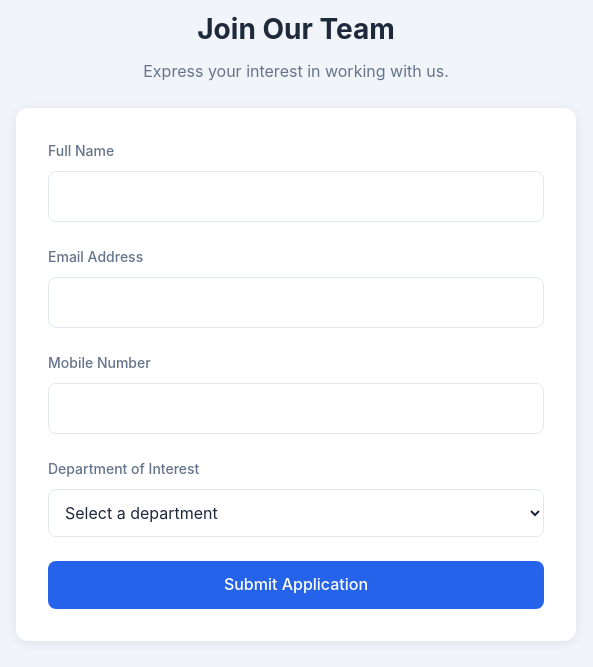
Scenario: InterestForm › associates inline errors with every empty field and never writes
Click the button "Submit Application". click: [296, 584]
box: [48, 560, 544, 608]
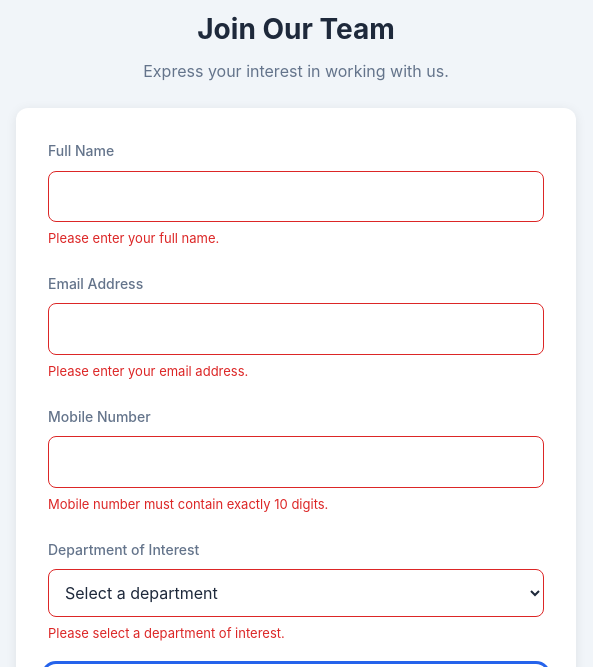
Now the number of messages is 4, box [48, 230, 219, 246]; [48, 363, 248, 379]; [48, 496, 328, 512]; [48, 625, 285, 641]
